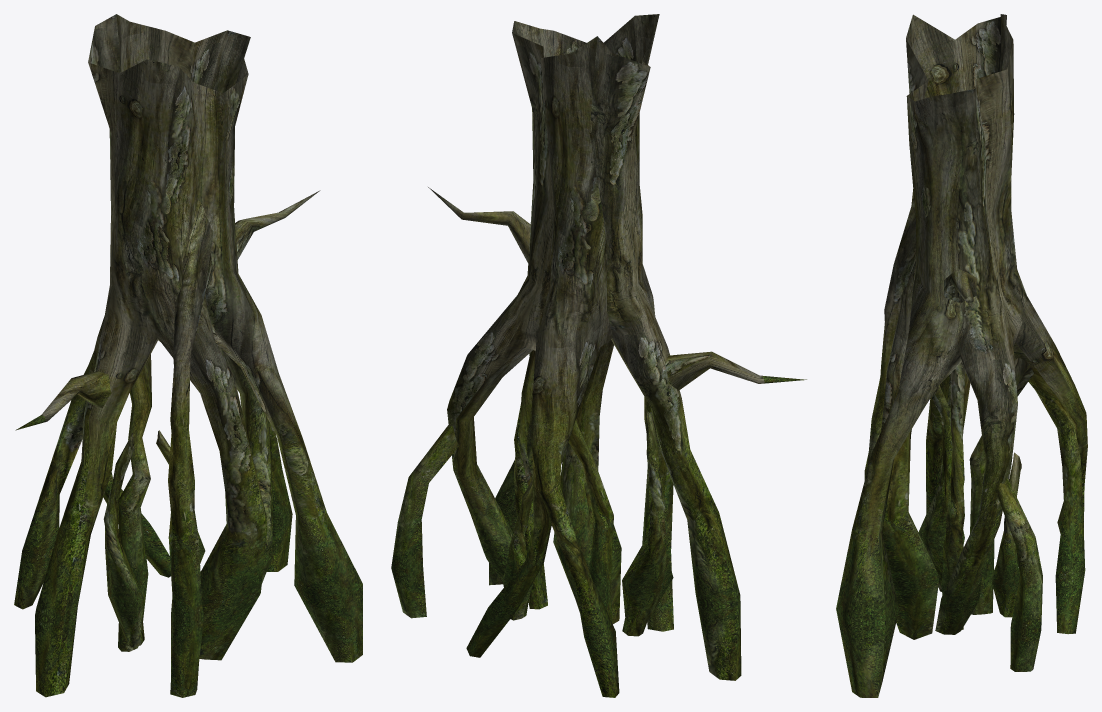
Rendered from prayer_gate.fbx.
3 views of the same model, side by side, from view 1: azimuth 30°, elevation 25°; view 2: azimuth 150°, elevation 25°; view 3: azimuth 270°, elevation 25° (orthographic). The views are drawn at different scales.
Parts seen in each view (by area): view 1: prayer_gate; view 2: prayer_gate; view 3: prayer_gate.
Boxes of the visible parts, x1,y1,x2,y2 form: prayer_gate: (14, 14, 362, 697); prayer_gate: (391, 14, 806, 697); prayer_gate: (836, 14, 1087, 697).
Size of the model in its own units: 34.23 by 60.43 by 22.78.
